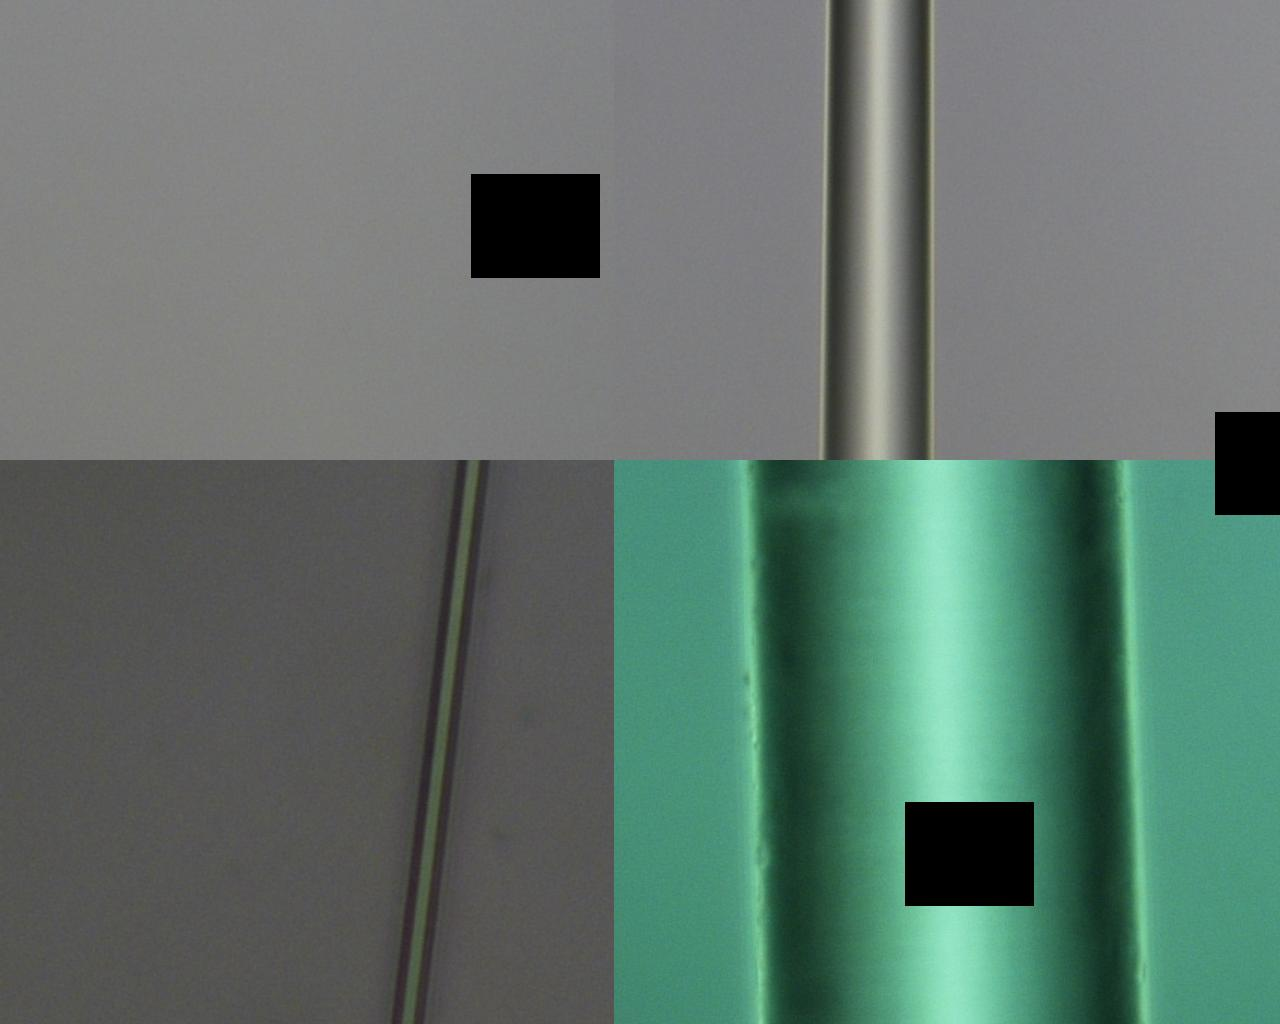fiber: (375, 0, 975, 1024)
